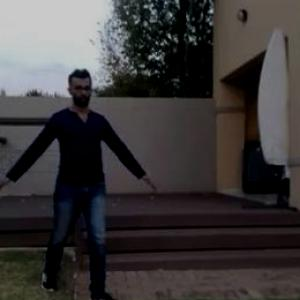land: (0, 67, 162, 299)
